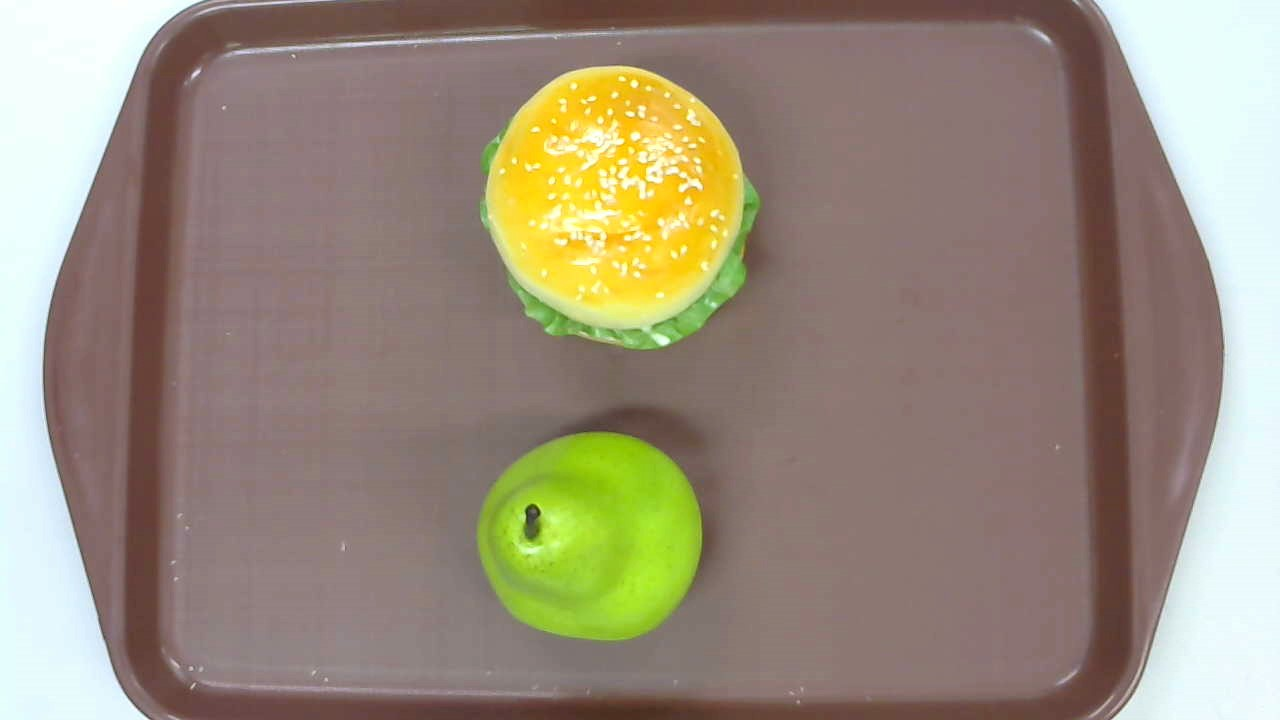green pear: (476, 431, 704, 643)
hamburger: (478, 64, 760, 350)
